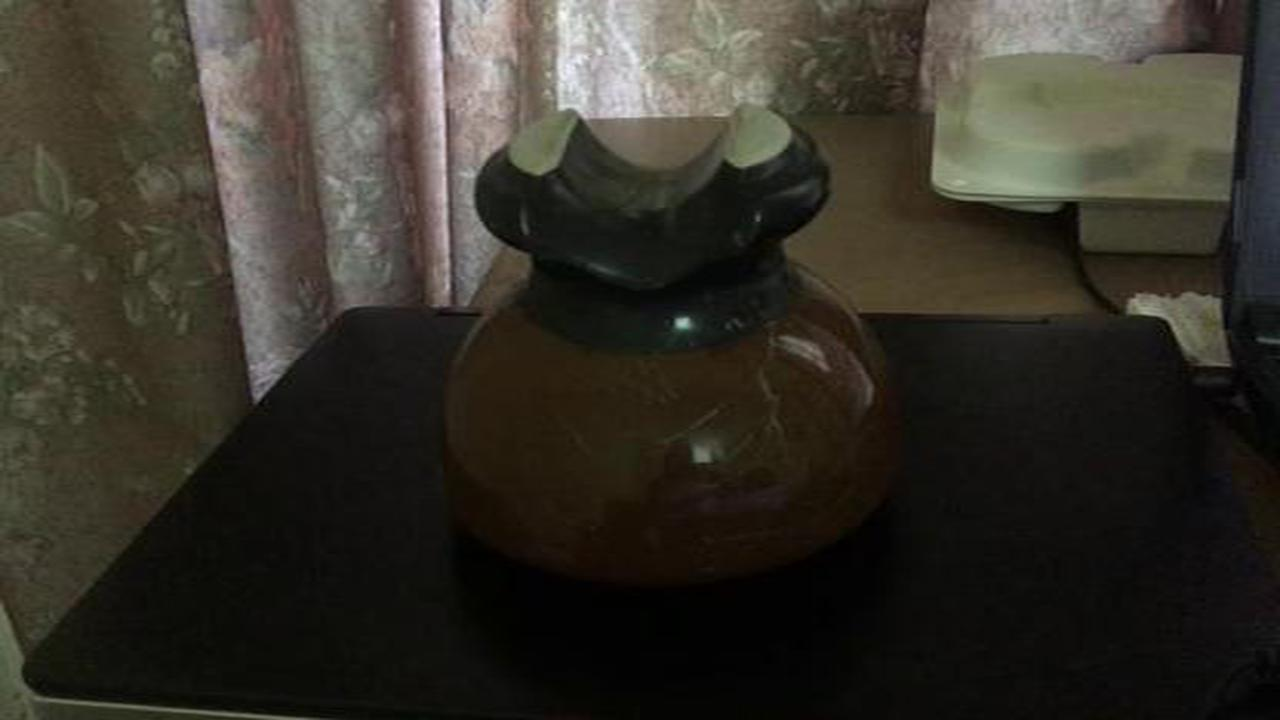insulator_pin: (407, 100, 945, 606)
